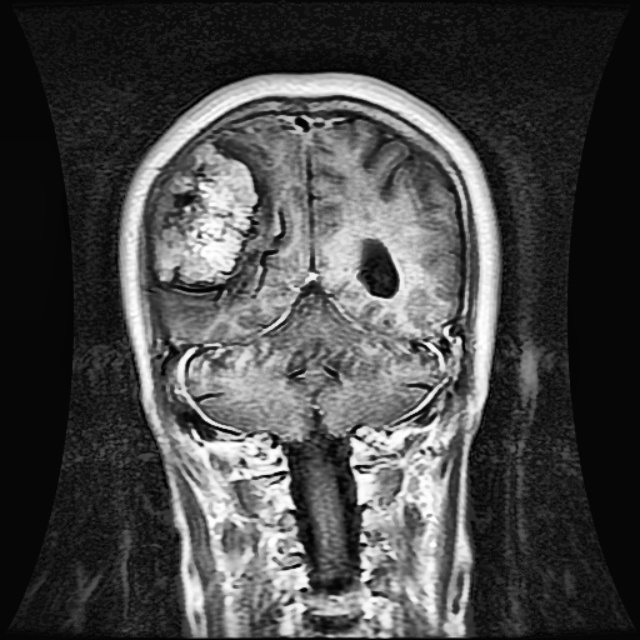Glioma: (153, 142, 259, 287)
